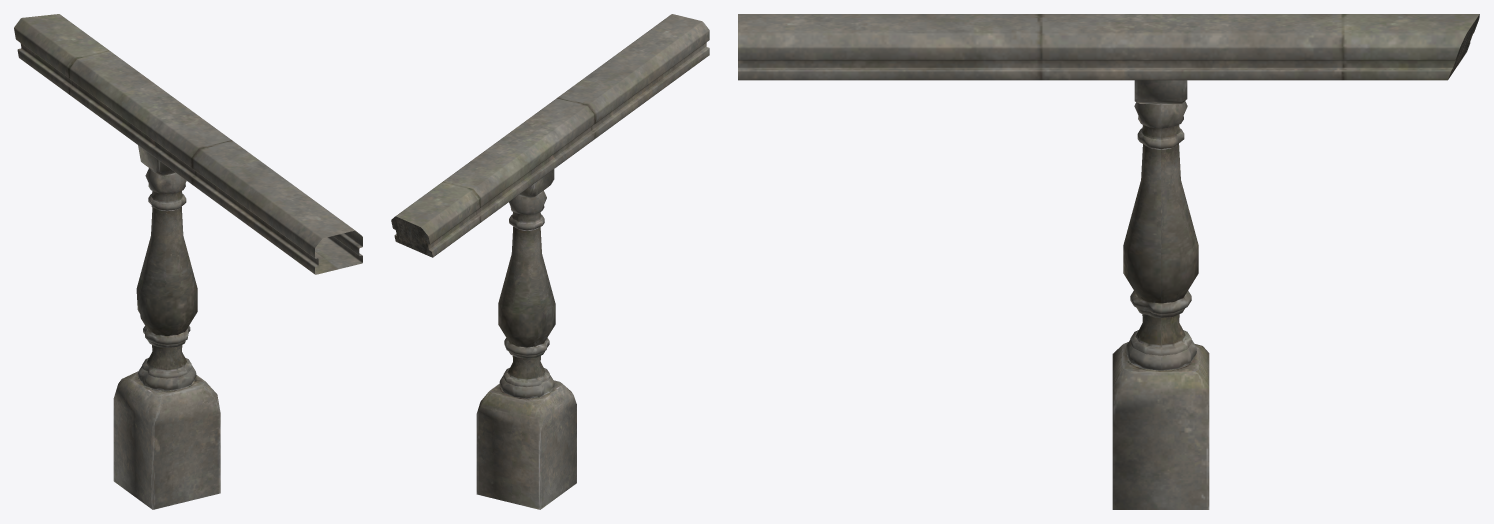
Rendered from RailingDamage01_1.fbx.
The picture shows the model from 3 angles, left to right: view 1: azimuth 30°, elevation 25°; view 2: azimuth 150°, elevation 25°; view 3: azimuth 270°, elevation 25°; orthographic projection. The views are drawn at different scales.
Visible parts, largest first — view 1: RailingDamage01_1; view 2: RailingDamage01_1; view 3: RailingDamage01_1.
Boxes of the visible parts, <box> form: RailingDamage01_1: <box>14,14,362,509</box>; RailingDamage01_1: <box>391,14,709,509</box>; RailingDamage01_1: <box>738,14,1479,509</box>.
Bounding box in the file's own units: 19.99 × 106 × 153.
